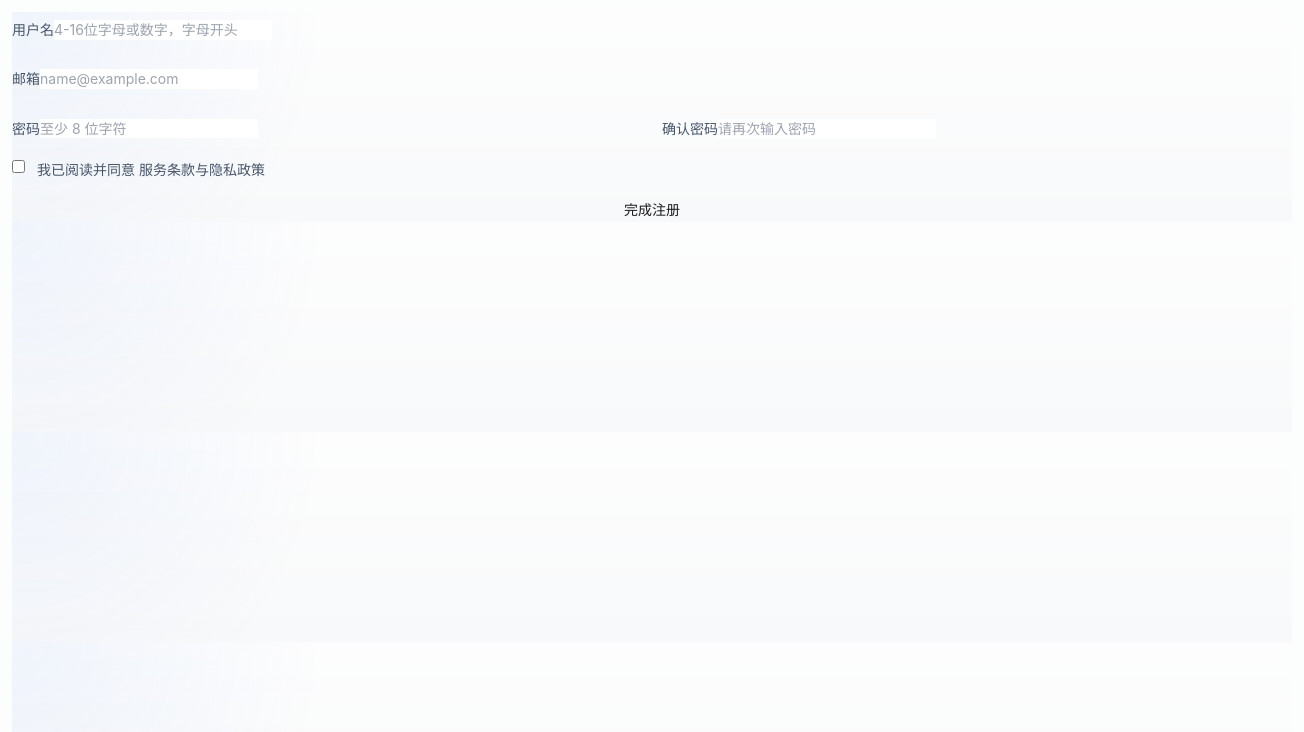
open registration › shows duplicate email and does not attempt login
The width and height of the screenshot is (1304, 732).
Expected: the button "完成注册" is enabled, [12,200,1292,220]
In the field labelled "用户名": (163, 30) [54,20,272,40], type "NewUser"
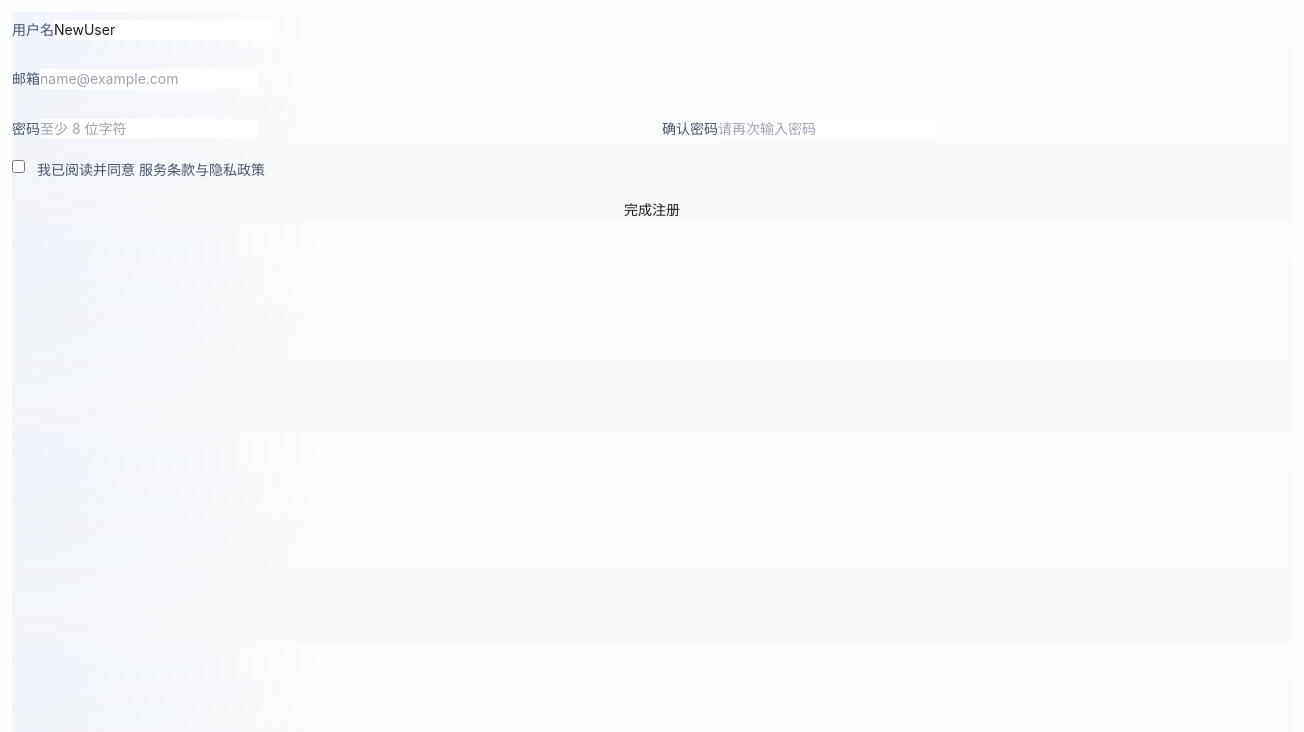
In the field with id "email": (149, 79) [40,69,258,89], type "new@example.com"
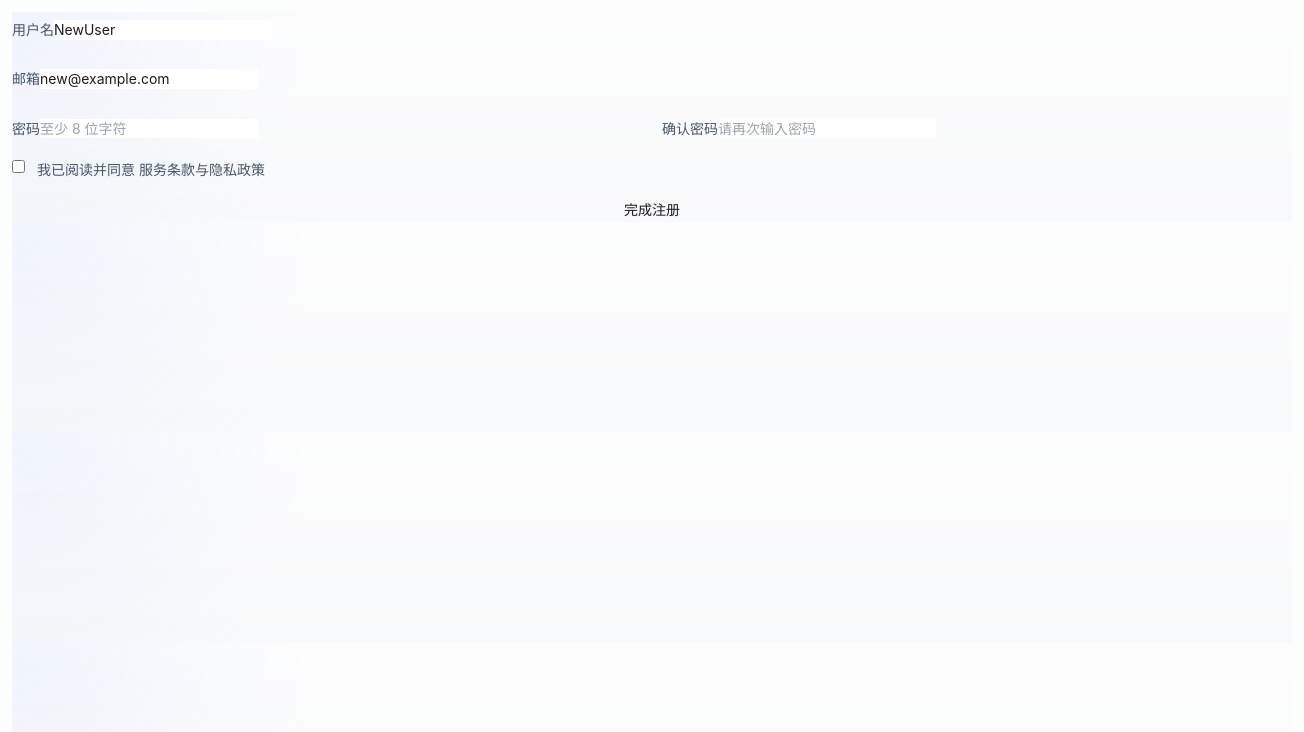
In the password field labelled "密码": (149, 129) [40,119,258,138], type "testpass123"
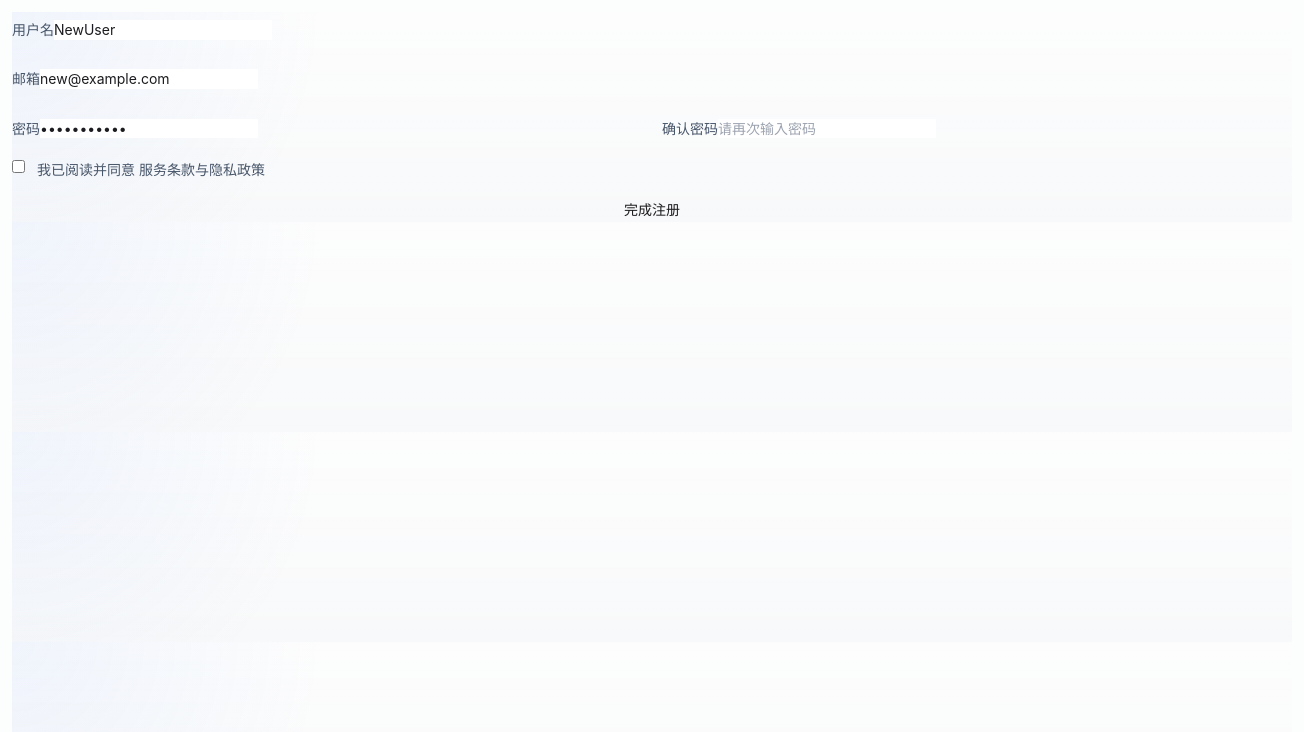
In the password field with id "confirm-password": (827, 129) [718,119,936,138], type "testpass123"
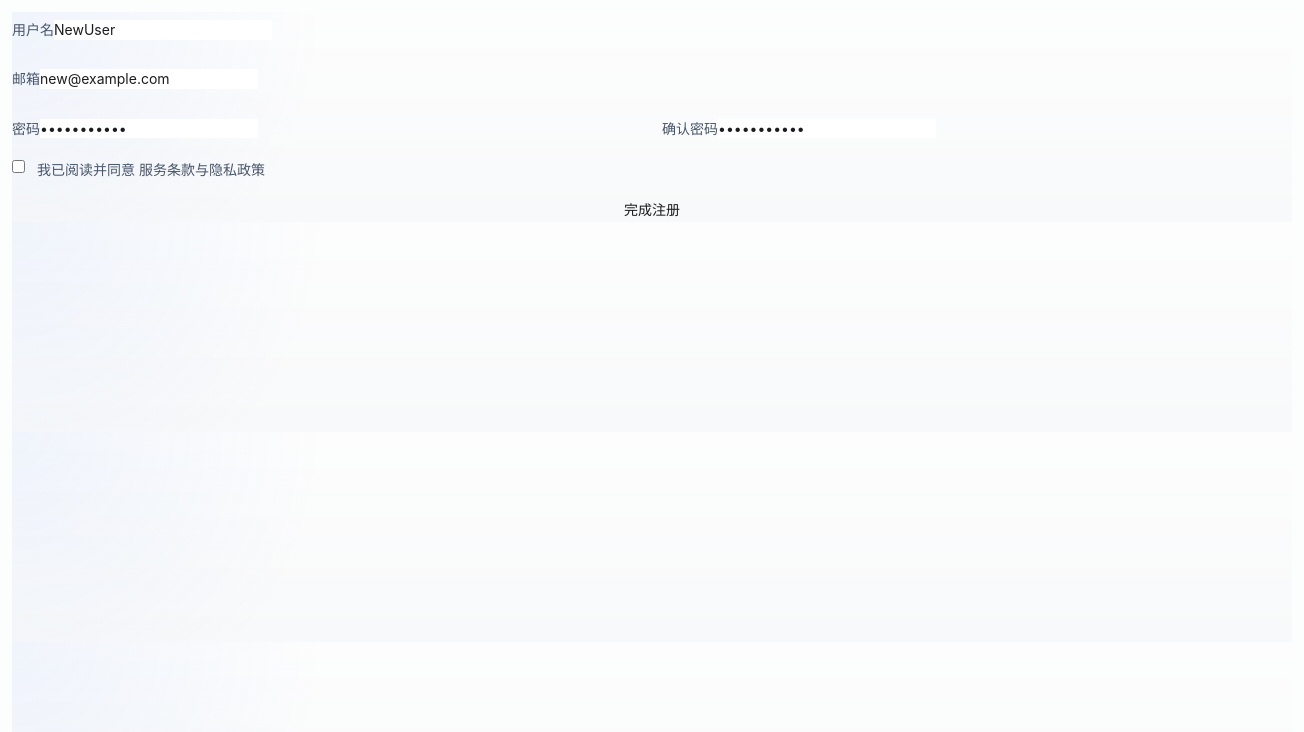
Click the checkbox: (18, 167) [12,160,25,173]
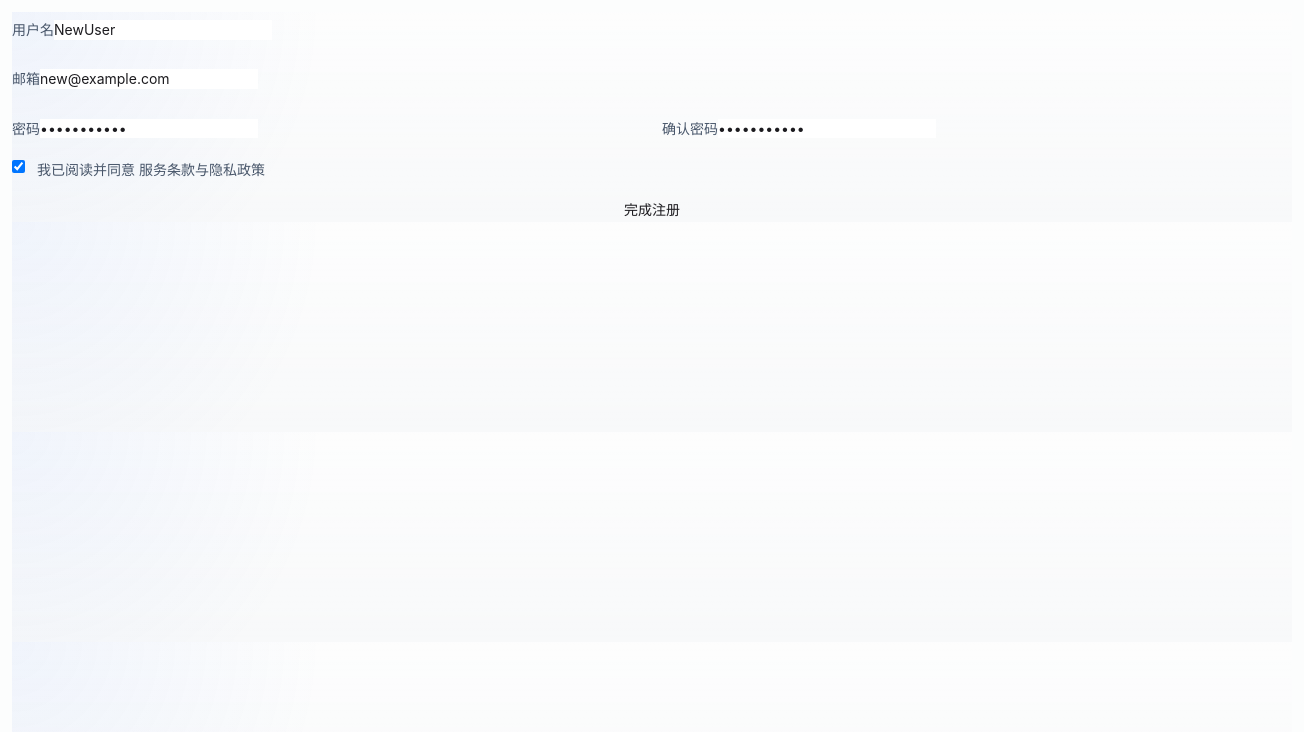
Click the button "完成注册": (652, 210) [12,200,1292,220]
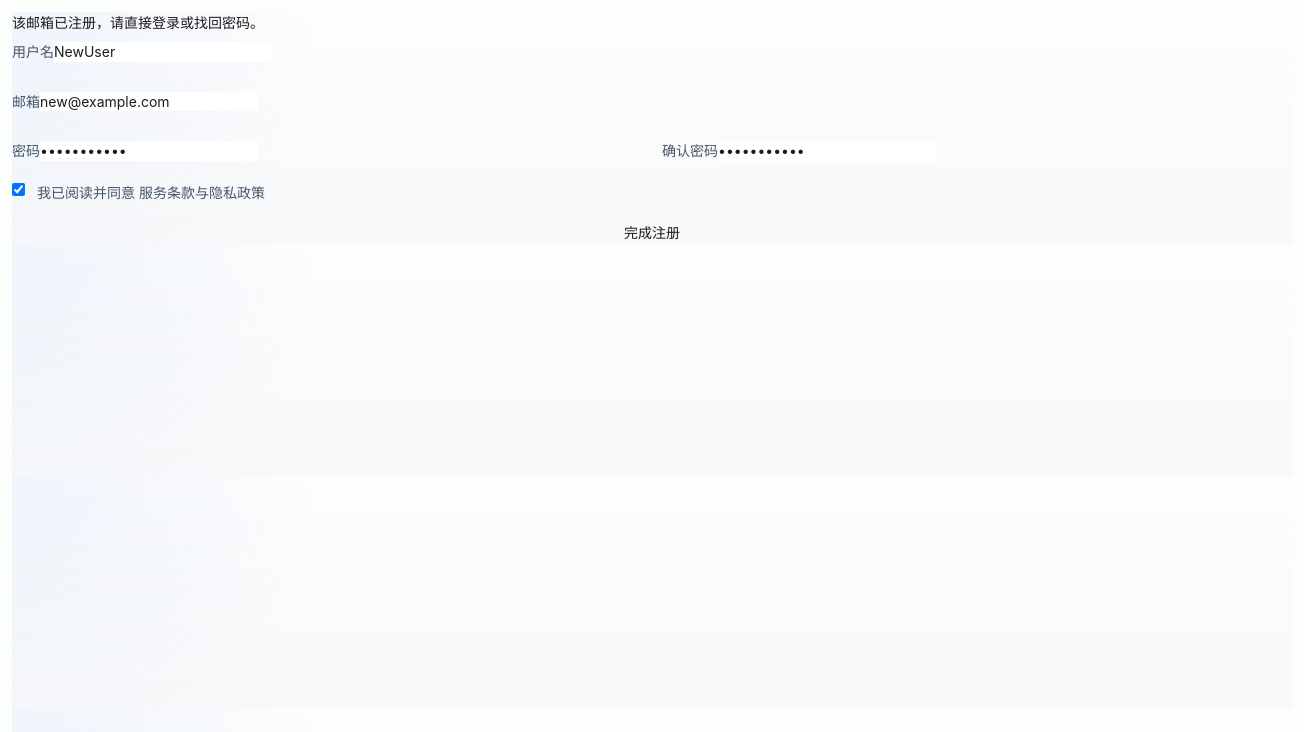
Expected: the button "完成注册" is enabled, [12,223,1292,242]
Expected: the text "该邮箱已注册，请直接登录或找回密码。" is shown, [12,14,264,31]
